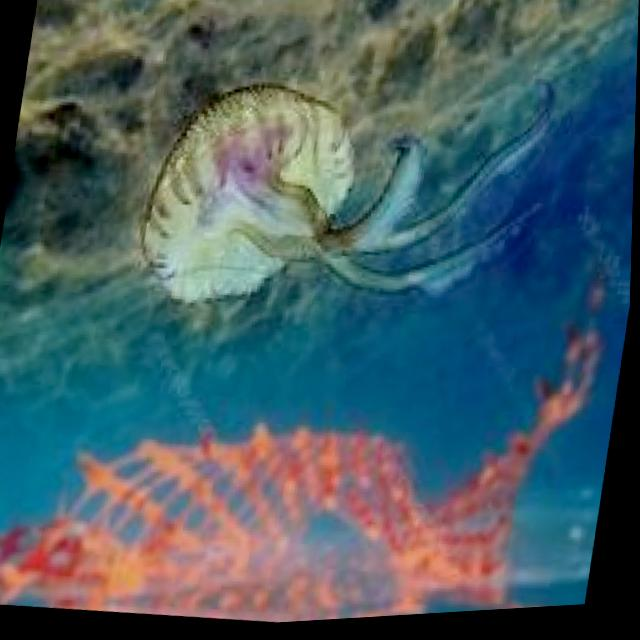Jellyfish: (0, 210, 634, 640), (123, 40, 561, 354)
